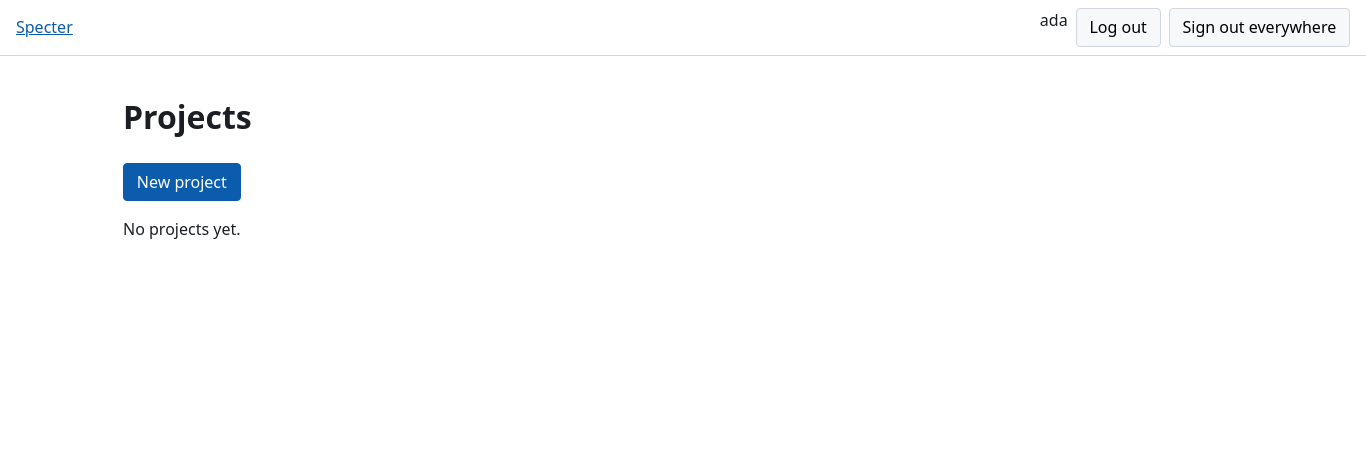
ProjectsPage › New project › closes the form on Cancel without sending anything
Click the button "New project": (182, 182) [123, 163, 241, 202]
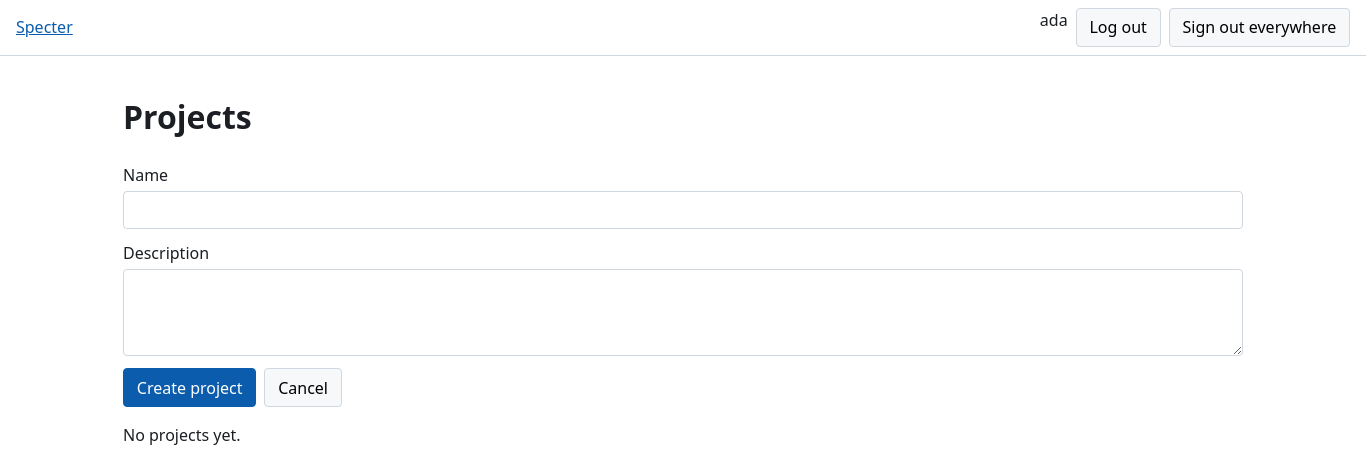
Click the button "Cancel": (303, 388) [264, 368, 342, 407]
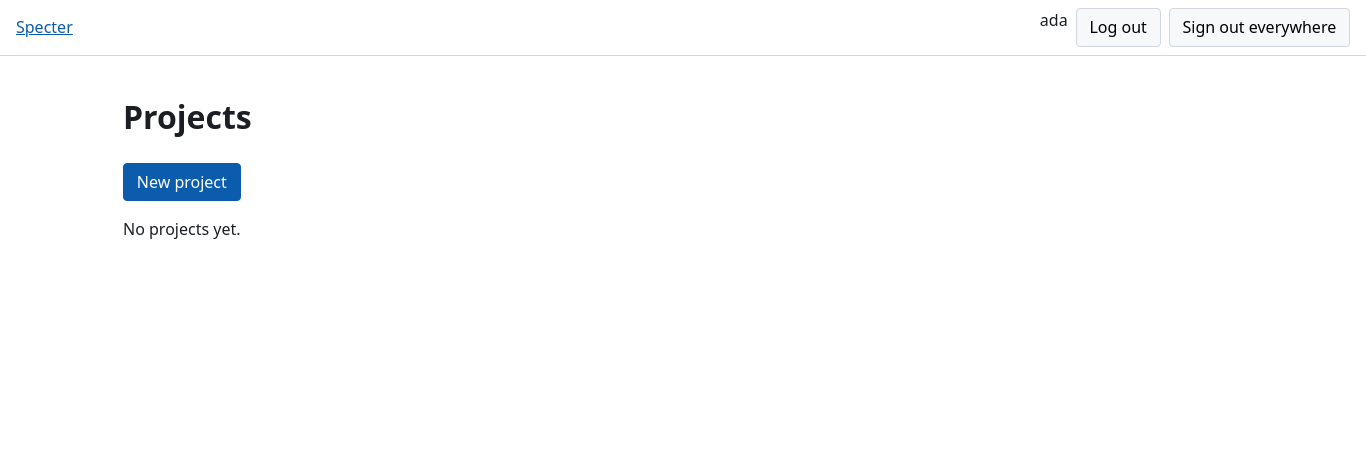
Now the label labelled "Name" is gone
